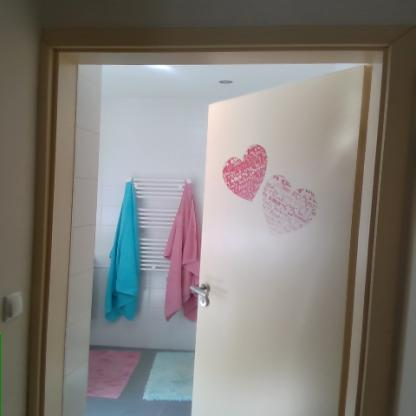semi: (38, 20, 393, 416)
